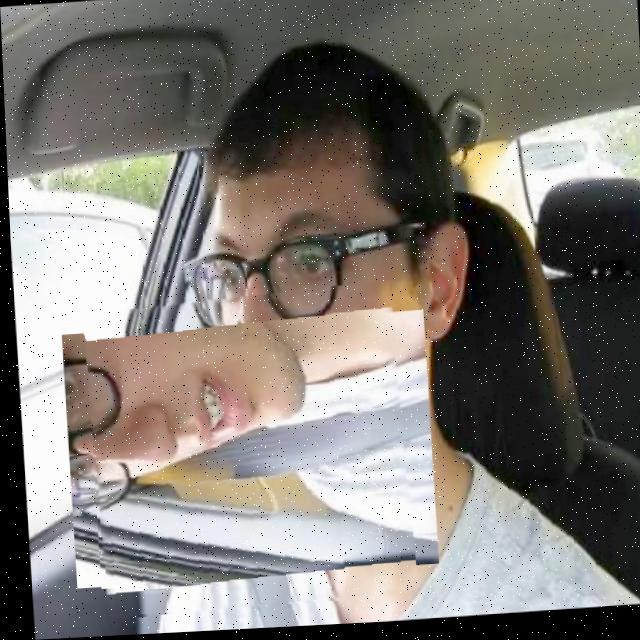seatbelt: (80, 285, 410, 616)
